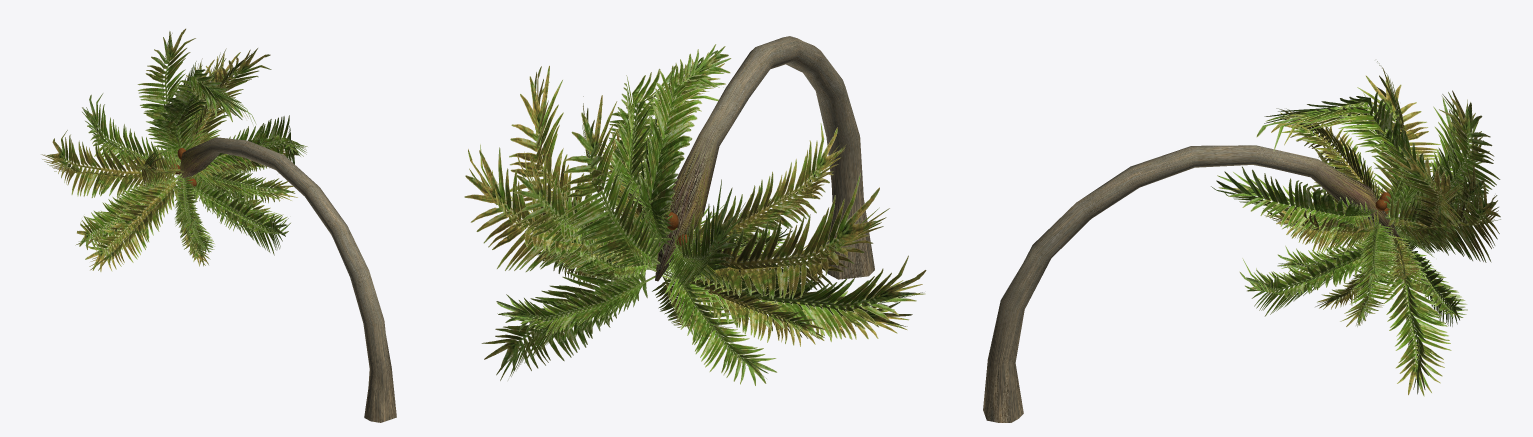
Rendered from coconut_palm6.fbx.
The picture shows the model from 3 angles, left to right: view 1: azimuth 30°, elevation 25°; view 2: azimuth 150°, elevation 25°; view 3: azimuth 270°, elevation 25°; orthographic projection. The views are drawn at different scales.
Parts seen in each view (by area): view 1: coconut_palm6_leaves, coconut_palm6_trunk; view 2: coconut_palm6_leaves, coconut_palm6_trunk; view 3: coconut_palm6_leaves, coconut_palm6_trunk.
Part boxes in pixels (x1=…): coconut_palm6_leaves: x1=41, y1=28, x2=307, y2=271; coconut_palm6_trunk: x1=177, y1=137, x2=396, y2=422; coconut_palm6_leaves: x1=464, y1=44, x2=926, y2=385; coconut_palm6_trunk: x1=655, y1=36, x2=874, y2=281; coconut_palm6_leaves: x1=1211, y1=61, x2=1500, y2=396; coconut_palm6_trunk: x1=983, y1=145, x2=1401, y2=422.
Bounding box in the file's own units: 325 × 307 × 436.
